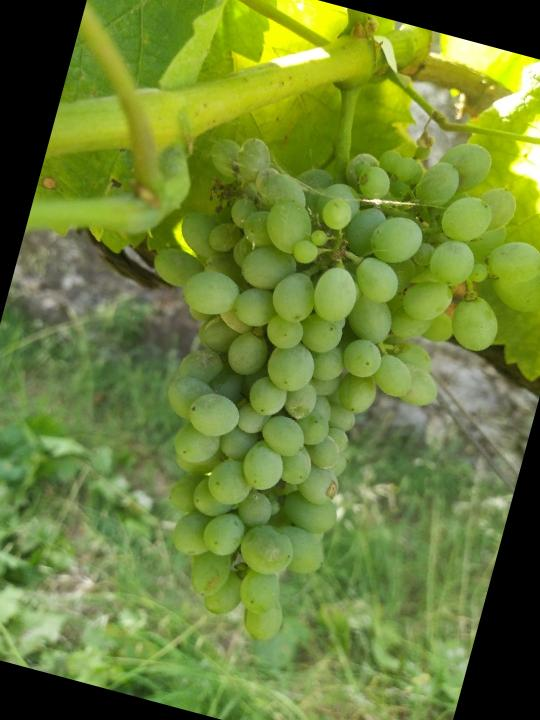grape: (56, 60, 540, 700)
